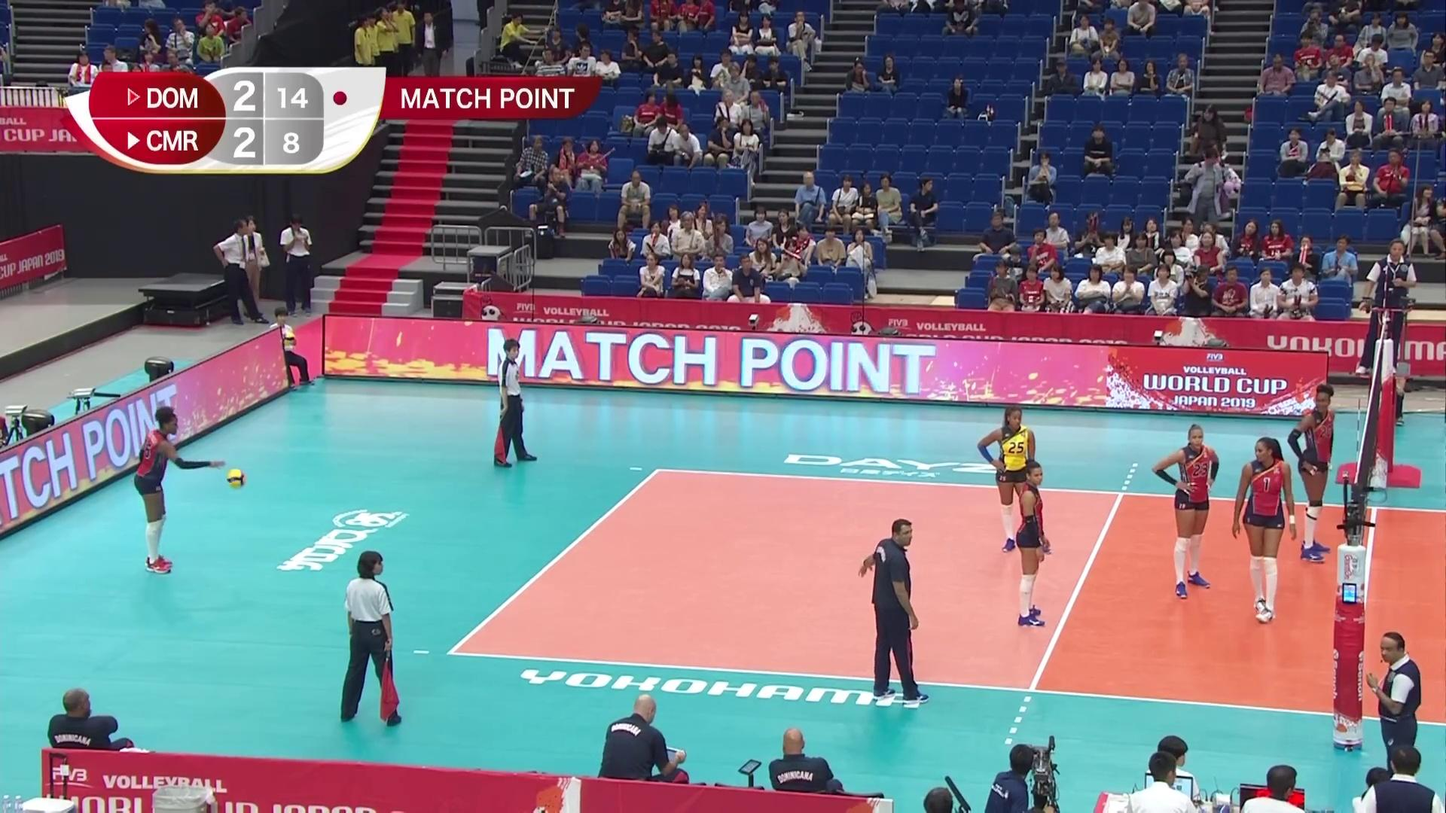player: (135, 407, 223, 576), (1232, 439, 1297, 626), (1155, 425, 1221, 597), (981, 407, 1040, 553), (1290, 386, 1339, 561), (1011, 461, 1048, 632)
refree: (337, 552, 402, 726), (1367, 632, 1421, 795), (1361, 239, 1418, 382), (493, 340, 538, 469)
